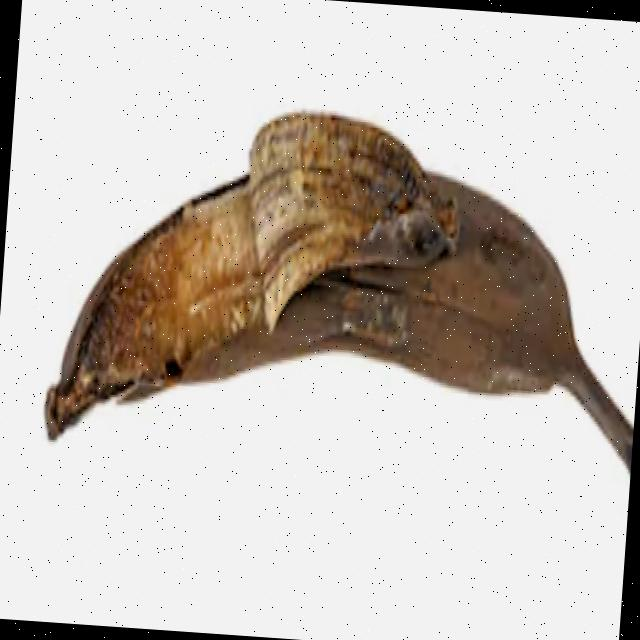Rotten: (3, 59, 640, 533)
